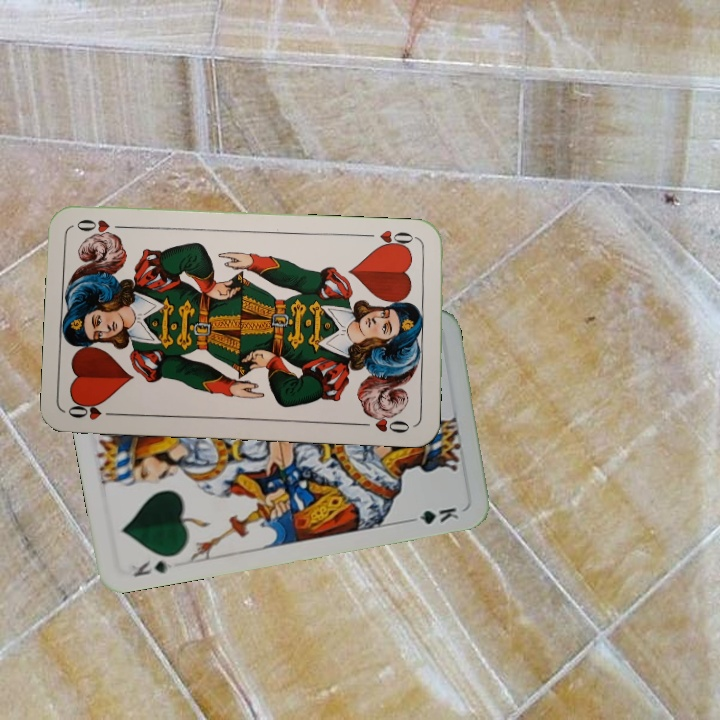GK: (129, 556, 175, 580)
HO: (362, 225, 421, 252), (65, 397, 124, 422)
